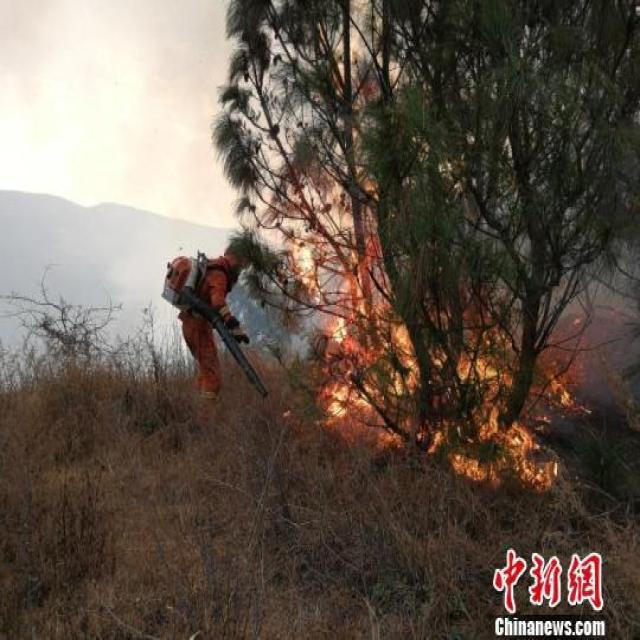Fire: (277, 175, 581, 495)
Smoke: (144, 15, 208, 101)
